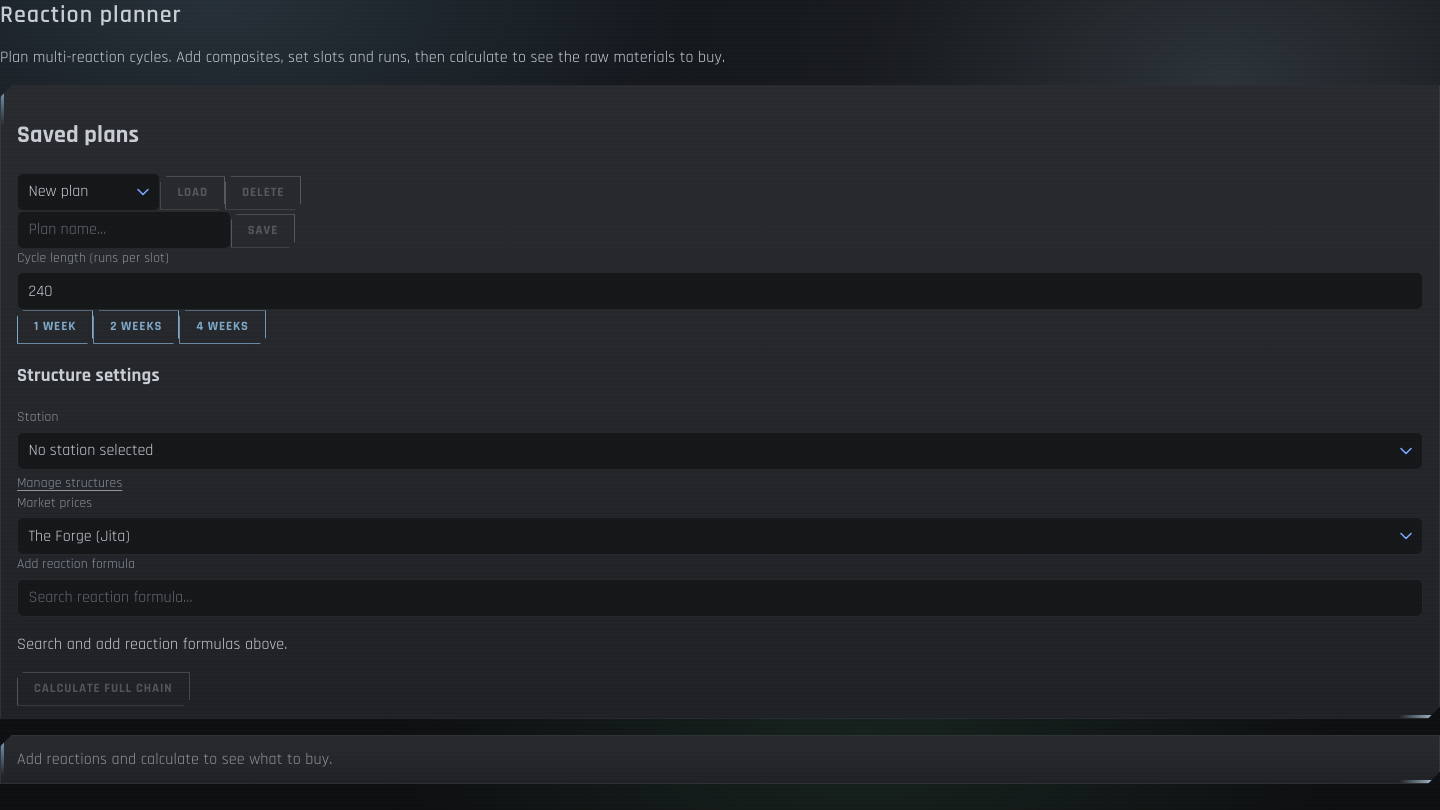
Test: ReactionPlanner saved plans › loads a saved plan into the entry list
The width and height of the screenshot is (1440, 810).
Select "Two week cycle" in the dropdown named "Saved plans" at (89, 192), box [17, 173, 160, 211]
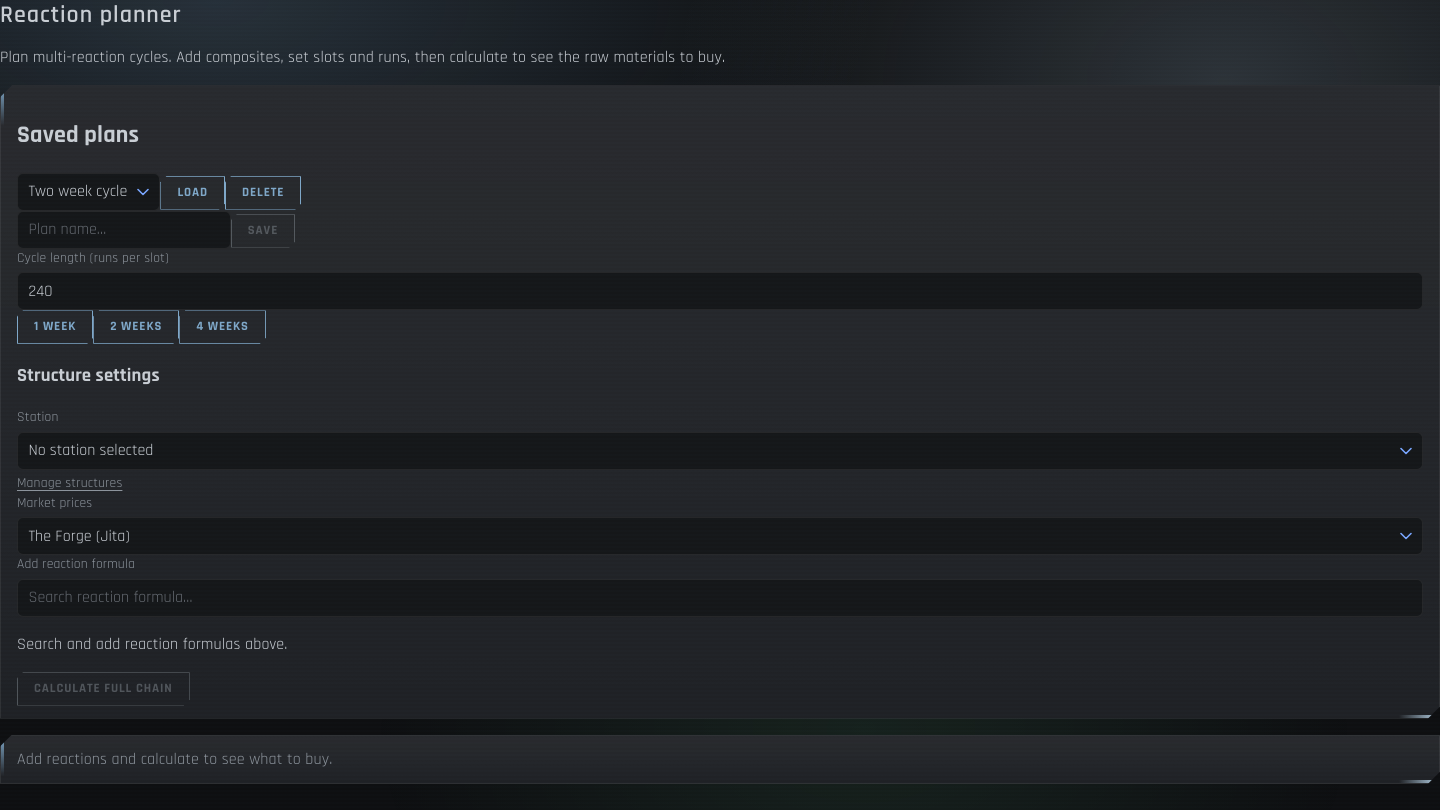
Click the button "Load" at (193, 193), box [160, 176, 225, 210]
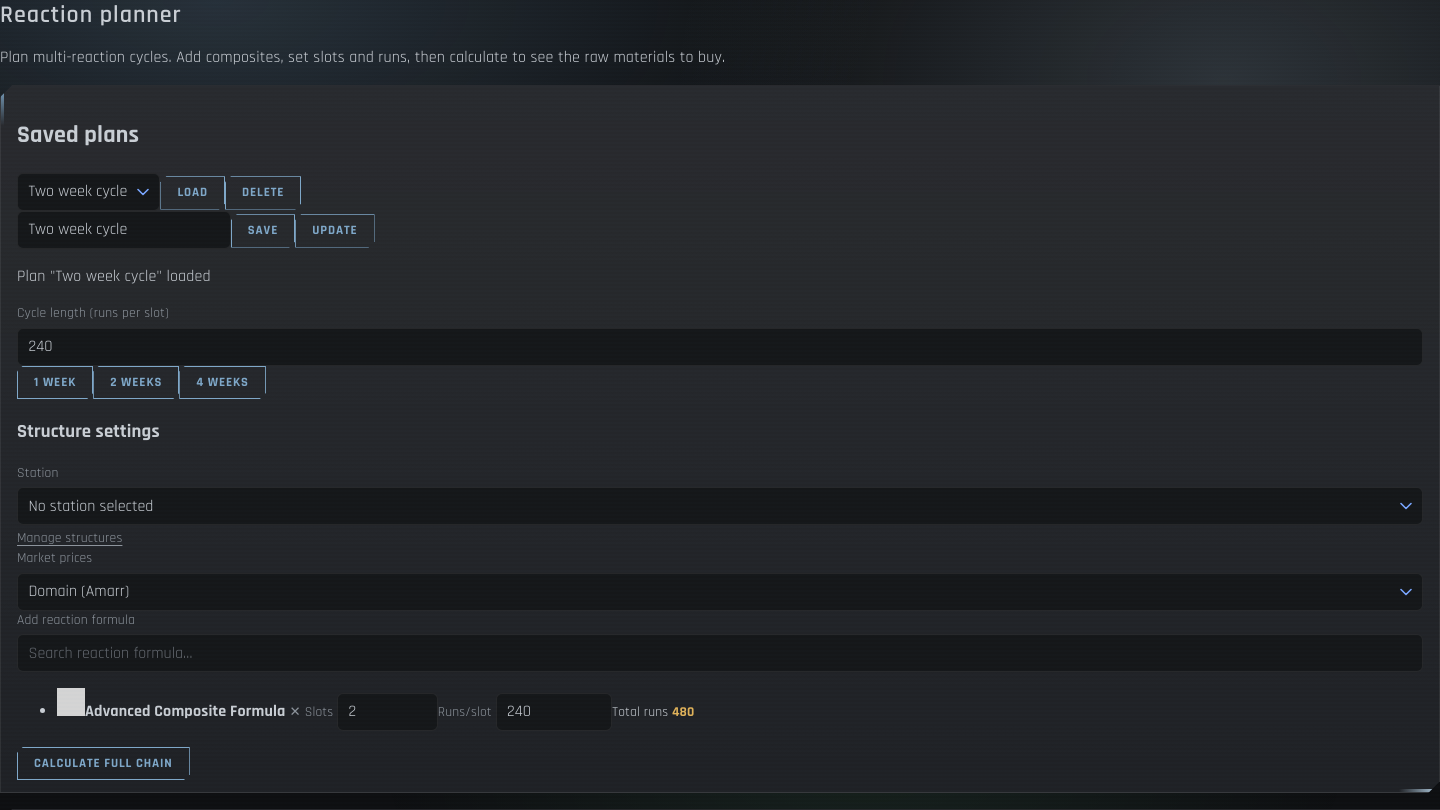
Check: the text "Advanced Composite Formula" is shown, box [85, 701, 286, 722]
Check: the number field named "Slots for Advanced Composite Formula" holds "2", box [337, 693, 438, 731]
Check: the field named "Plan name" holds "Two week cycle", box [17, 211, 231, 249]
